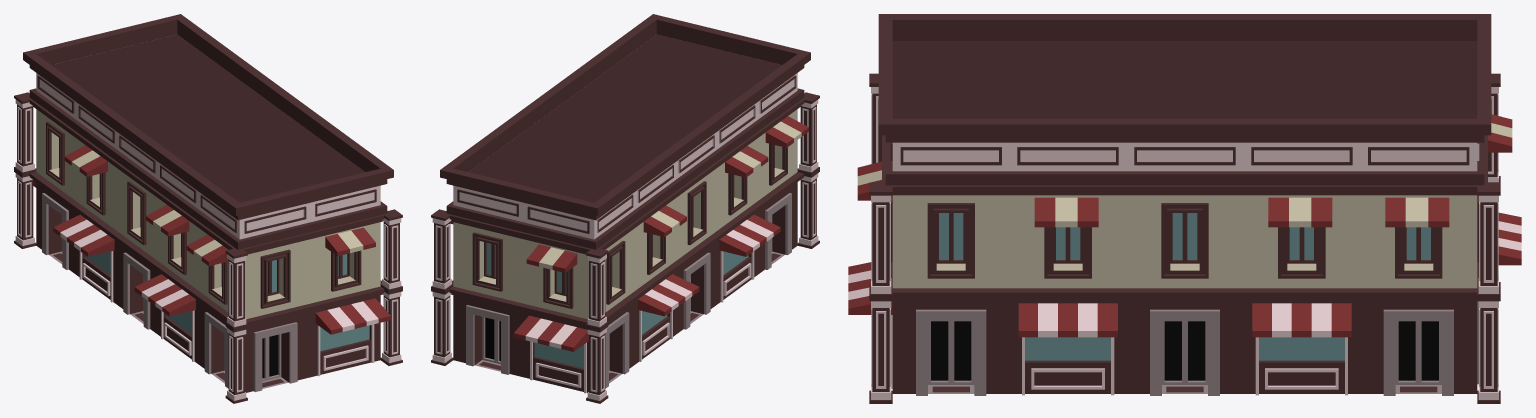
The picture shows the model from 3 angles, left to right: view 1: azimuth 30°, elevation 25°; view 2: azimuth 150°, elevation 25°; view 3: azimuth 270°, elevation 25°; orthographic projection. The views are drawn at different scales.
Visible parts, largest first — view 1: Procedural Building; view 2: Procedural Building; view 3: Procedural Building.
Part boxes in pixels (left/top/right/bottom): Procedural Building: left=14, top=14, right=402, bottom=403; Procedural Building: left=431, top=14, right=819, bottom=403; Procedural Building: left=848, top=14, right=1521, bottom=403.
Bounding box in the file's own units: 276 × 260 × 576.
